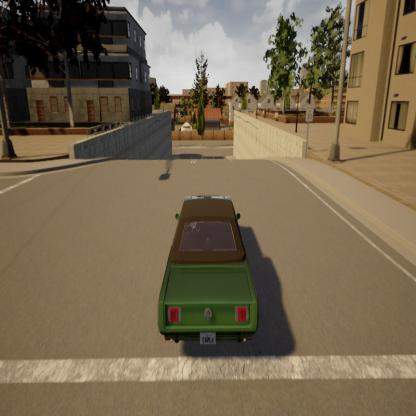Cars: (141, 186, 263, 354)
